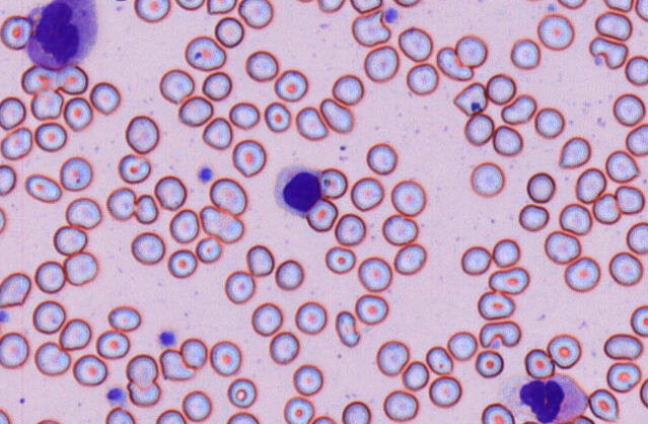GRAN: (501, 374, 587, 424)
LYM: (274, 164, 323, 216)
MONO: (21, 0, 98, 70)
PLT: (106, 387, 126, 403), (159, 331, 178, 347), (384, 6, 399, 25), (198, 165, 214, 182), (0, 309, 11, 324)
RBC: (184, 35, 226, 70), (536, 13, 574, 50), (209, 177, 246, 215), (125, 114, 159, 154), (363, 45, 399, 82), (390, 179, 426, 216), (564, 256, 600, 292), (159, 68, 194, 104), (34, 341, 70, 376), (397, 26, 433, 61), (375, 339, 409, 376), (544, 230, 581, 264), (357, 256, 392, 291), (608, 251, 643, 286), (470, 161, 504, 197), (350, 176, 384, 211), (547, 333, 581, 368), (63, 251, 97, 285), (125, 353, 158, 388), (32, 299, 65, 334), (72, 353, 107, 386), (130, 231, 165, 264), (59, 156, 92, 191), (0, 14, 32, 50), (382, 389, 418, 421), (65, 197, 101, 229), (209, 340, 241, 376), (154, 174, 186, 210), (488, 266, 529, 294), (381, 214, 418, 245), (605, 149, 639, 182), (612, 92, 645, 126), (575, 167, 606, 203), (177, 95, 213, 126), (477, 290, 514, 320), (559, 202, 592, 235), (454, 34, 487, 67), (294, 300, 326, 334), (606, 361, 641, 392), (21, 64, 57, 94), (0, 331, 29, 368), (24, 173, 61, 202), (245, 49, 278, 81), (428, 375, 461, 407), (305, 198, 337, 231), (30, 88, 63, 120), (59, 317, 91, 350), (393, 243, 426, 275), (0, 126, 32, 159), (406, 62, 438, 95), (331, 73, 364, 105), (334, 212, 366, 245), (365, 142, 397, 175), (274, 69, 307, 101), (463, 112, 494, 146), (251, 302, 282, 336), (354, 293, 388, 324), (603, 333, 642, 360), (169, 208, 199, 243), (587, 388, 618, 421), (224, 270, 255, 303), (34, 260, 65, 293), (89, 81, 120, 114), (53, 225, 87, 255), (63, 96, 92, 131), (181, 389, 212, 421), (485, 72, 516, 104), (292, 363, 323, 395), (269, 331, 299, 364), (202, 116, 232, 149), (34, 121, 67, 151), (117, 153, 150, 183), (96, 329, 129, 359), (106, 186, 135, 220), (238, 0, 273, 28), (56, 64, 88, 94), (534, 106, 564, 138), (460, 245, 491, 275), (510, 38, 540, 69), (214, 16, 244, 47), (274, 259, 304, 290), (226, 377, 256, 408), (492, 124, 522, 155), (526, 171, 555, 203), (524, 348, 554, 378), (447, 330, 477, 360), (614, 184, 644, 214), (167, 248, 197, 278), (201, 71, 232, 100), (324, 245, 355, 274), (592, 193, 621, 224), (318, 167, 347, 198), (179, 337, 207, 369), (246, 244, 274, 276), (263, 101, 291, 132), (518, 203, 549, 231), (0, 96, 26, 129), (107, 305, 140, 331), (401, 360, 429, 390), (425, 345, 453, 375), (475, 349, 503, 378), (492, 238, 520, 267), (283, 396, 313, 423), (134, 0, 170, 22), (133, 193, 158, 224), (625, 123, 647, 156), (195, 236, 221, 263), (481, 402, 514, 423), (626, 221, 647, 254), (341, 400, 371, 423), (625, 55, 647, 85), (630, 304, 647, 336), (105, 406, 135, 423), (0, 164, 16, 195), (155, 408, 186, 423), (206, 0, 236, 14), (350, 0, 382, 13), (225, 411, 259, 423), (603, 0, 633, 12), (317, 0, 345, 12), (175, 0, 204, 10), (635, 0, 648, 21), (557, 0, 586, 9), (639, 378, 647, 408), (310, 415, 336, 423), (572, 414, 594, 423), (393, 0, 420, 7), (0, 408, 11, 423), (0, 207, 6, 233), (35, 418, 62, 423), (519, 420, 540, 424), (294, 0, 314, 3), (108, 0, 132, 2), (520, 0, 544, 2)
Schistocyte: (202, 205, 244, 243), (349, 11, 391, 47), (320, 96, 356, 135), (436, 46, 476, 80), (589, 36, 629, 69), (295, 107, 331, 141), (454, 82, 491, 115), (479, 321, 522, 349), (557, 135, 592, 169), (594, 12, 635, 41), (0, 272, 32, 309), (158, 350, 197, 380), (502, 94, 538, 125), (335, 310, 363, 348), (127, 382, 163, 406)
